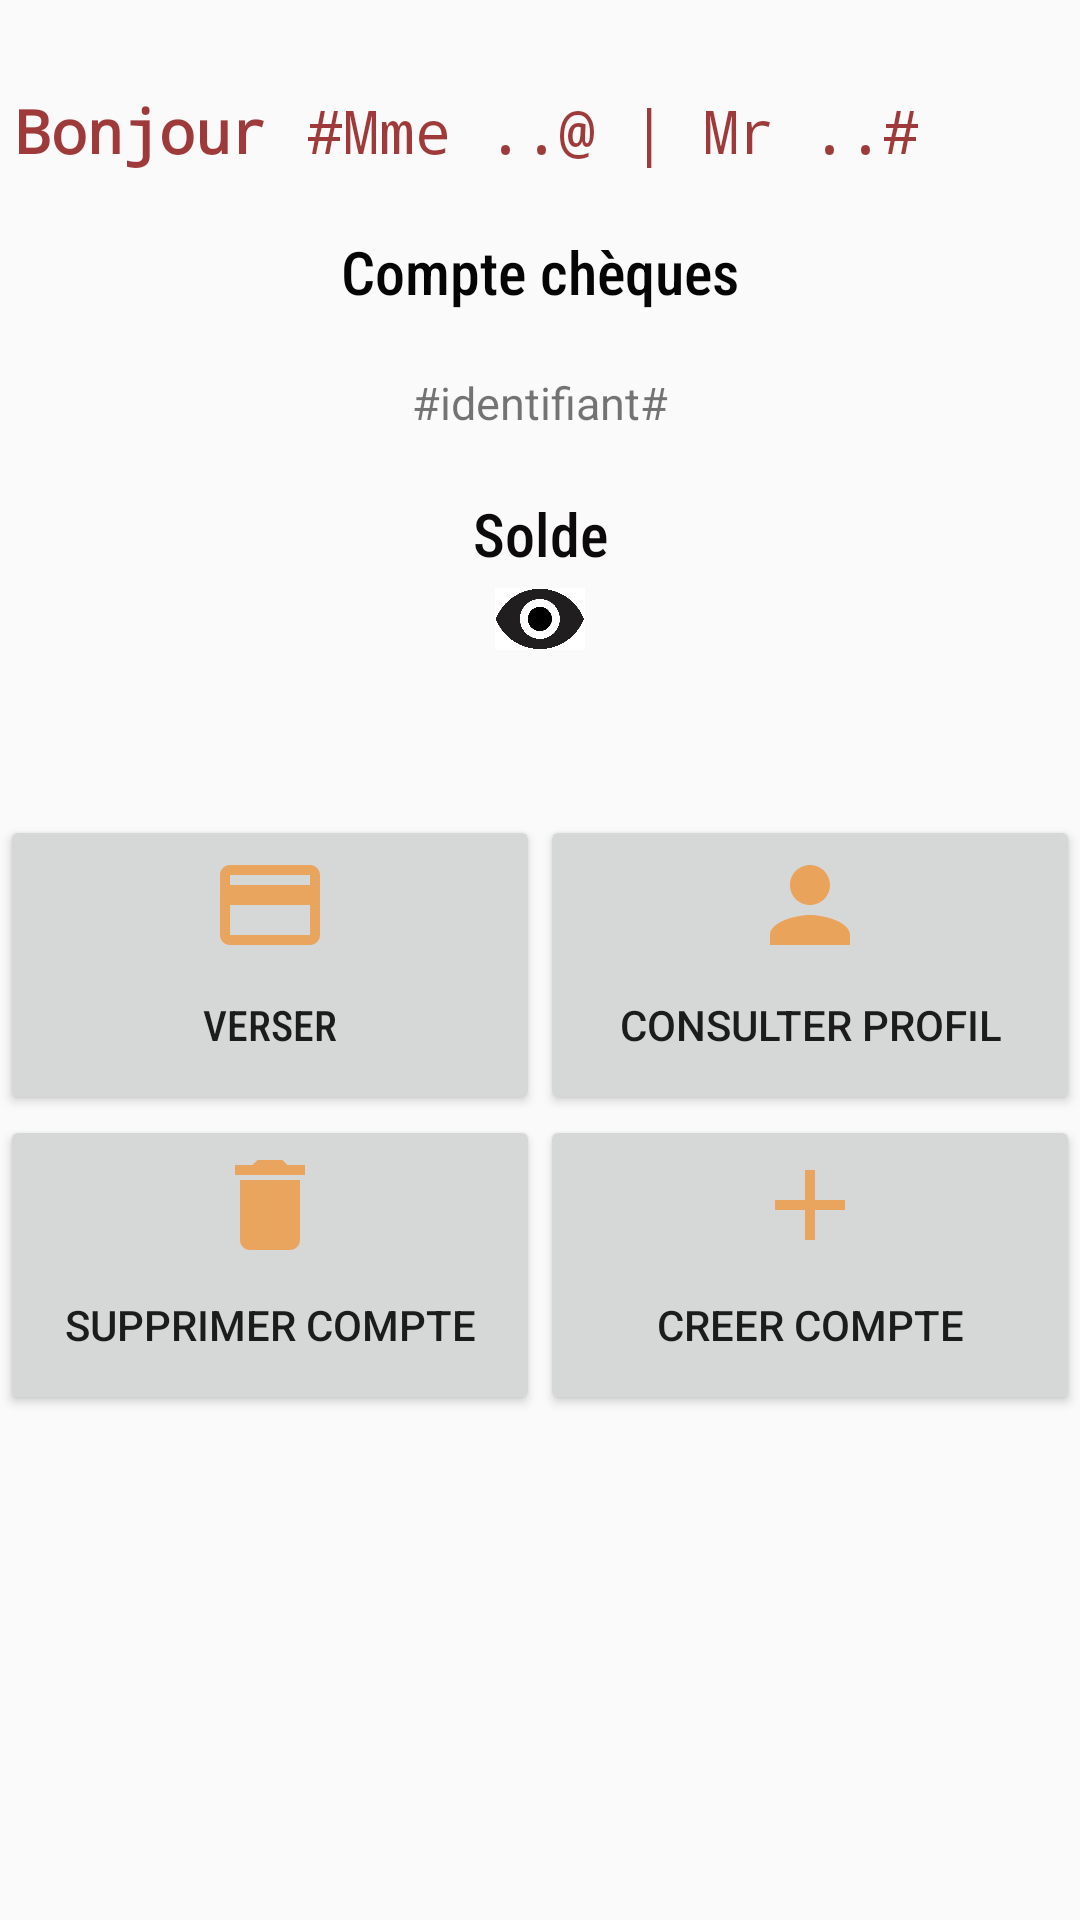

Named icons in this screenshot (1080*1920) and their centers, [x,y]:
eye: [540,619]
